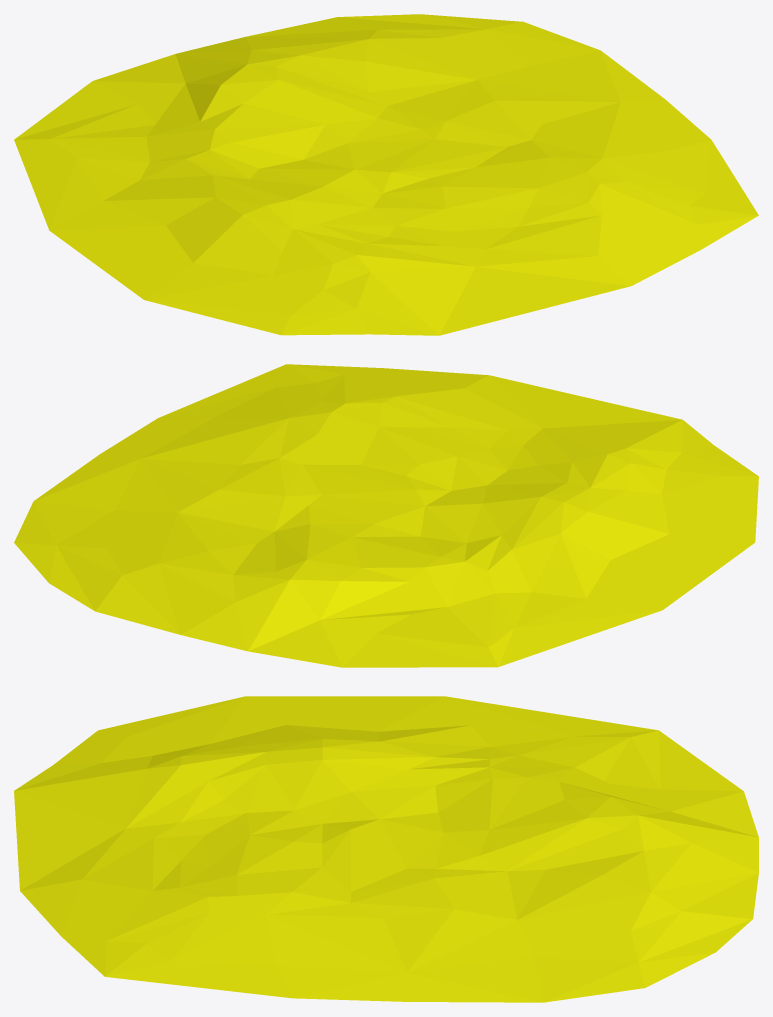
The model's file is SM_Generic_Ground_01.glb.
3 renders of one model, top to bottom at view 1: azimuth 30°, elevation 25°; view 2: azimuth 150°, elevation 25°; view 3: azimuth 270°, elevation 25°, orthographic. The views are drawn at different scales.
Visible parts, largest first — view 1: SM_Generic_Ground_01; view 2: SM_Generic_Ground_01; view 3: SM_Generic_Ground_01.
Part boxes in pixels (x1=…): SM_Generic_Ground_01: x1=14, y1=14, x2=758, y2=335; SM_Generic_Ground_01: x1=14, y1=364, x2=758, y2=667; SM_Generic_Ground_01: x1=14, y1=696, x2=758, y2=1002.
Bounding box in the file's own units: 5.53 × 0.2575 × 5.68.
1 material, 1 textured.
